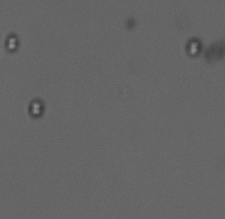Living Cell: (28, 99, 44, 119), (4, 34, 21, 51), (186, 38, 201, 56)
